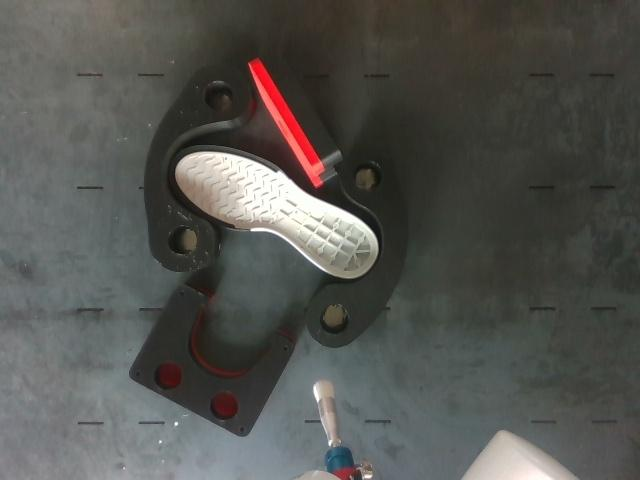shoes: (169, 146, 378, 277)
